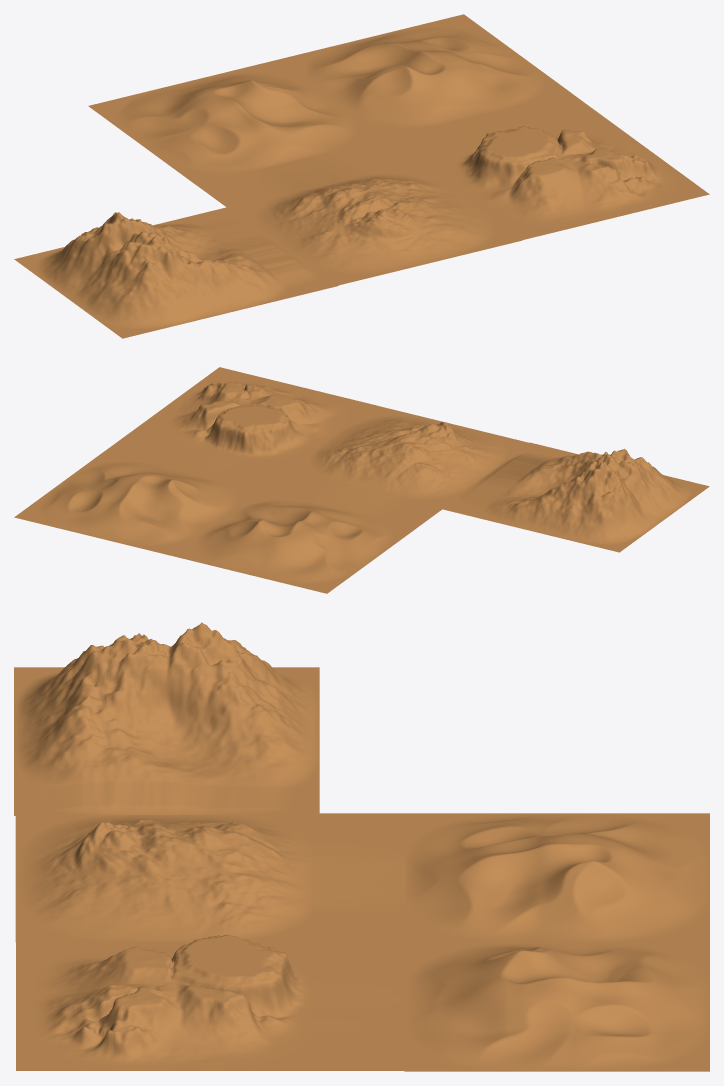
File: basemap23.fbx
The picture shows the model from 3 angles, top to bottom: view 1: azimuth 30°, elevation 25°; view 2: azimuth 150°, elevation 25°; view 3: azimuth 270°, elevation 25°; orthographic projection. The views are drawn at different scales.
Visible parts, largest first — view 1: Landscape.007, Landscape.003, Landscape.005, Landscape, Landscape.002; view 2: Landscape.007, Landscape.003, Landscape.005, Landscape, Landscape.002; view 3: Landscape.007, Landscape.005, Landscape.003, Landscape, Landscape.002.
Part boxes in pixels (x1,y1,x2,y2): Landscape.007: [382, 92, 709, 240]; Landscape.003: [197, 139, 522, 286]; Landscape.005: [14, 207, 338, 338]; Landscape: [88, 60, 383, 185]; Landscape.002: [276, 14, 569, 137]; Landscape.007: [103, 367, 375, 490]; Landscape.003: [261, 405, 531, 527]; Landscape.005: [440, 442, 709, 552]; Landscape: [171, 489, 416, 593]; Landscape.002: [14, 452, 259, 555]; Landscape.007: [16, 935, 408, 1070]; Landscape.005: [14, 622, 319, 815]; Landscape.003: [15, 813, 405, 942]; Landscape: [404, 813, 709, 942]; Landscape.002: [404, 942, 709, 1071].
Size of the model in its own units: 72663 by 7361 by 52851.
